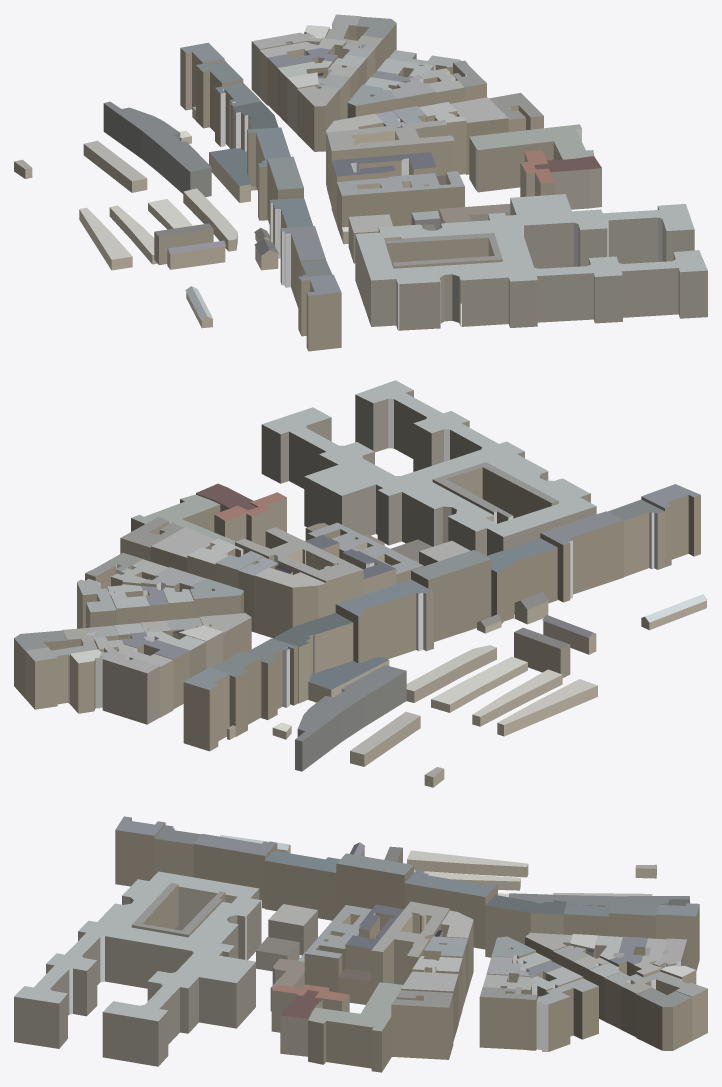
3 views of the same model, one above another, from view 1: azimuth 30°, elevation 25°; view 2: azimuth 150°, elevation 25°; view 3: azimuth 270°, elevation 25° (orthographic). The views are drawn at different scales.
Parts seen in each view (by area): view 1: tuile; view 2: tuile; view 3: tuile.
Boxes of the visible parts, x1,y1,x2,y2 form: tuile: (14,14,707,351); tuile: (14,380,707,787); tuile: (14,816,707,1072).
Bounding box in the file's own units: 238 × 35.92 × 318.
